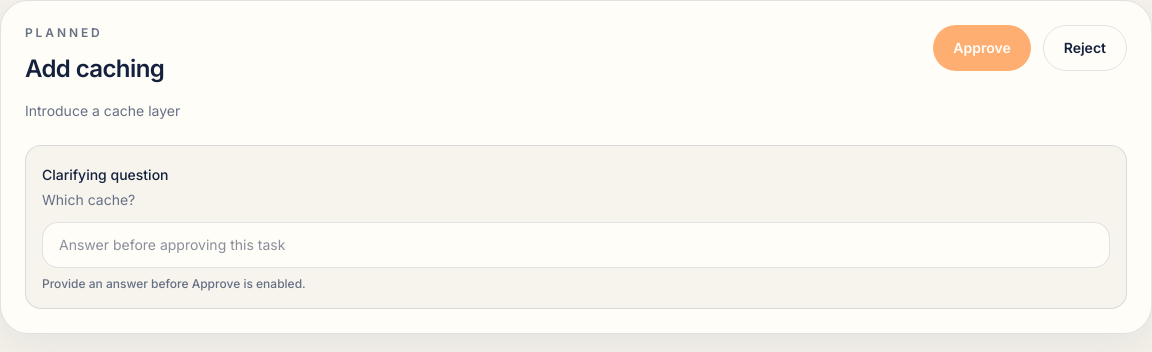
Test: TaskGraph › disables Approve until a clarifying question is answered
The image size is (1152, 352).
Check: the button "Approve" is disabled, box top-left (933, 25), bottom-right (1031, 71)
Type "Redis" into the field labelled "Clarifying question".
click(576, 245); type("Redis")  # box top-left (42, 222), bottom-right (1110, 268)
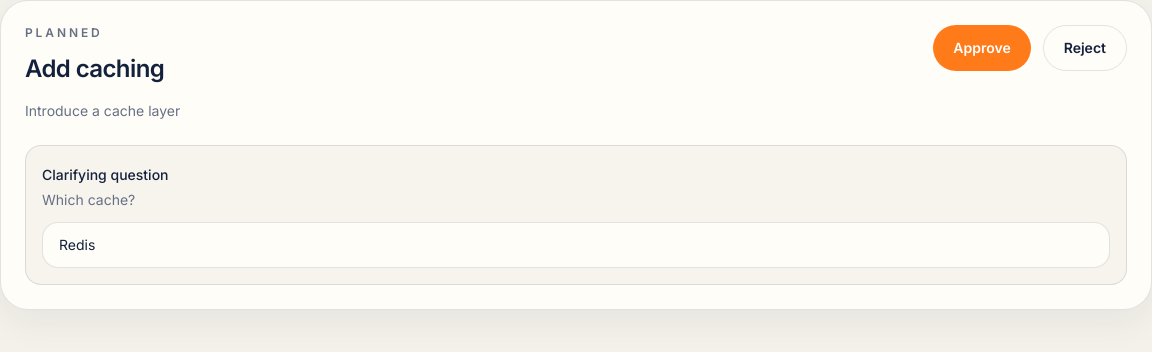
Check: the button "Approve" is enabled, box top-left (933, 25), bottom-right (1031, 71)
